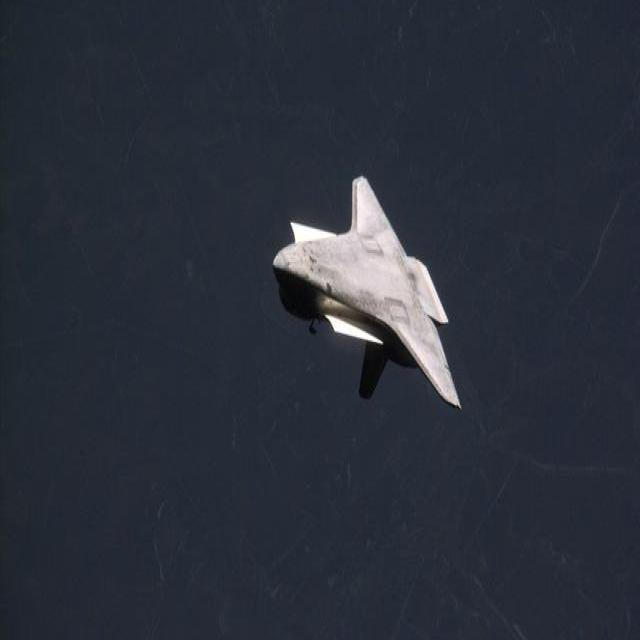satellite: (268, 180, 464, 410)
